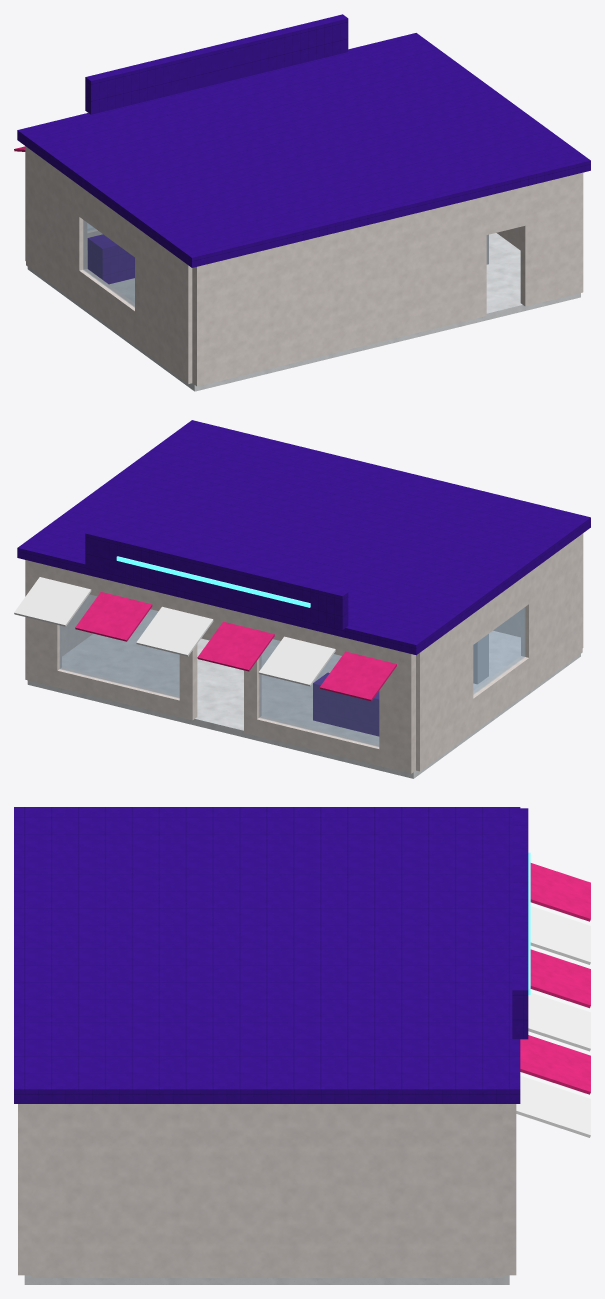
File: env_shop.glb
The picture shows the model from 3 angles, top to bottom: view 1: azimuth 30°, elevation 25°; view 2: azimuth 150°, elevation 25°; view 3: azimuth 270°, elevation 25°; orthographic projection. The views are drawn at different scales.
Parts seen in each view (by area): view 1: env_shop; view 2: env_shop; view 3: env_shop.
Boxes of the visible parts, left/top/right/bottom form: env_shop: left=14, top=14, right=590, bottom=391; env_shop: left=14, top=420, right=590, bottom=778; env_shop: left=14, top=807, right=590, bottom=1284.
Size of the model in its own units: 12.4 by 5.1 by 10.71.
8 materials, 4 textured.
